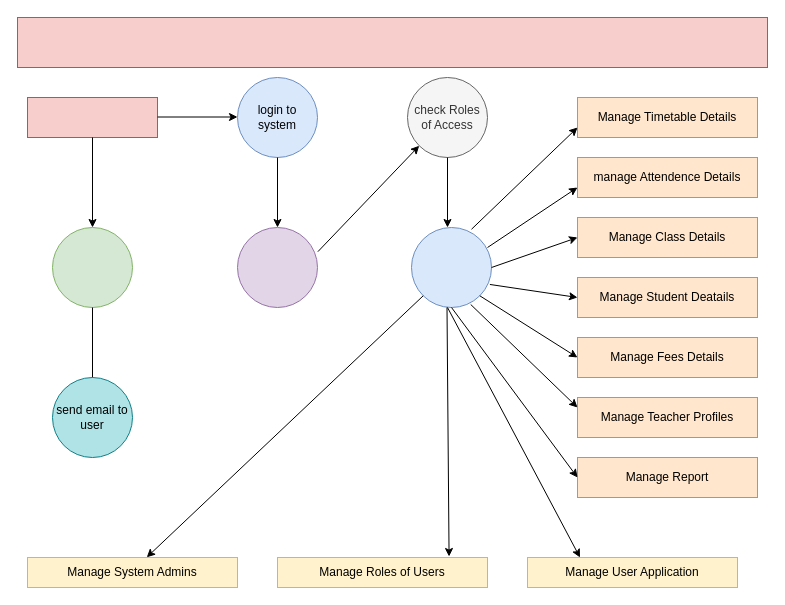
The diagram is 785 pixels wide and 605 high, and some of its shapes have lost their labels. Each missing label, with the centre of its shape:
Admin: point (92, 117)
check credentials: point (277, 267)
forgot password: point (92, 267)
manage Modules: point (451, 267)
student details: point (392, 42)
